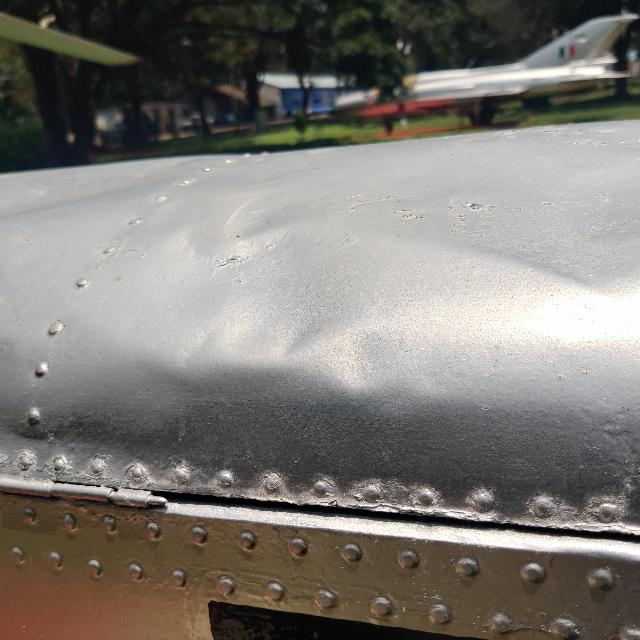dent: (83, 171, 409, 423)
